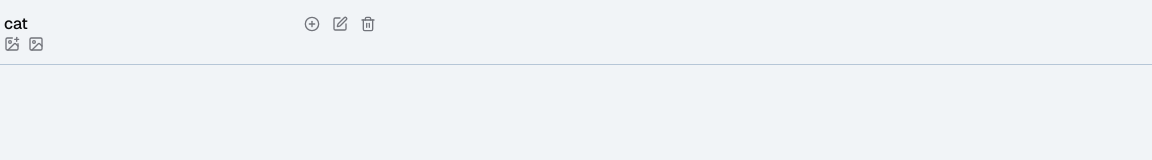
Scenario: word image status › opens tooltips on hover and keyboard focus
Hover over the button named "wordIsImageable": (12, 44) [4,36,20,52]
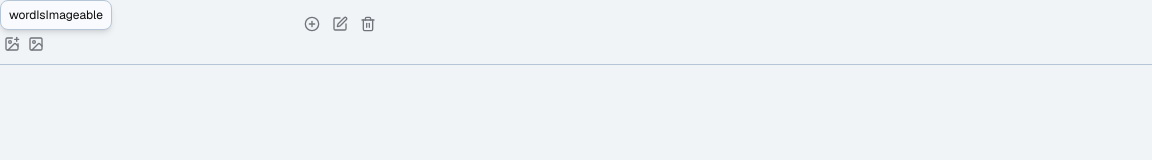
Expected: the tooltip reads "wordIsImageable", [9,7,103,23]
Press Tab
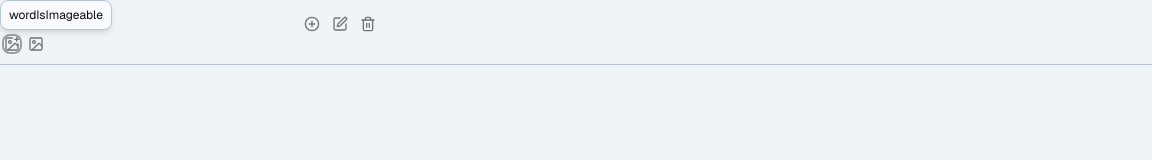
Press Tab
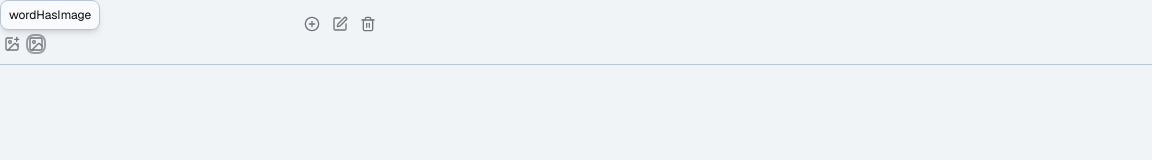
Expected: the tooltip reads "wordHasImage", [9,7,91,23]
